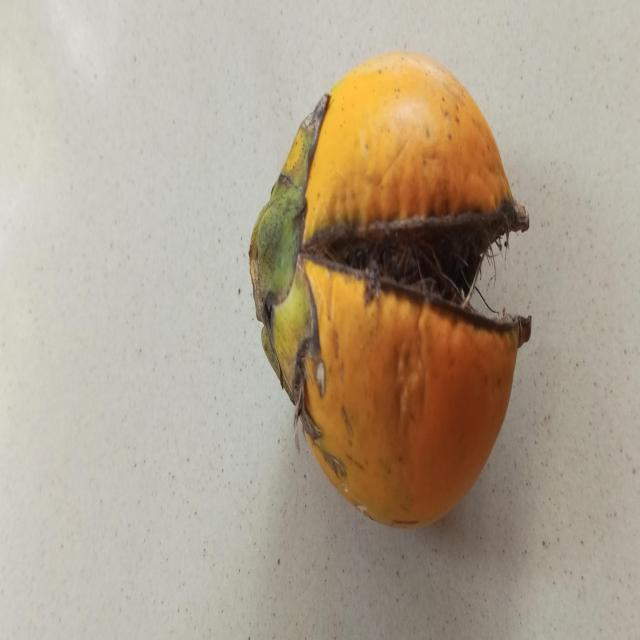damaged: (250, 52, 533, 530)
